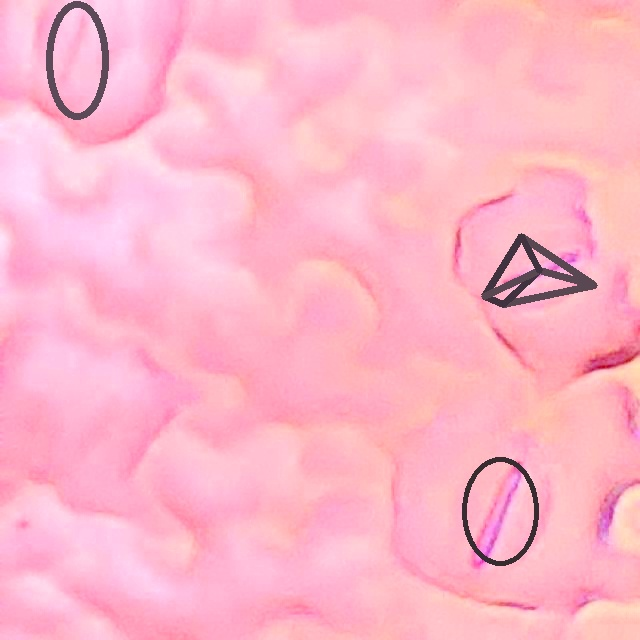close: (45, 0, 109, 120)
open: (461, 456, 539, 566), (481, 233, 597, 306)
